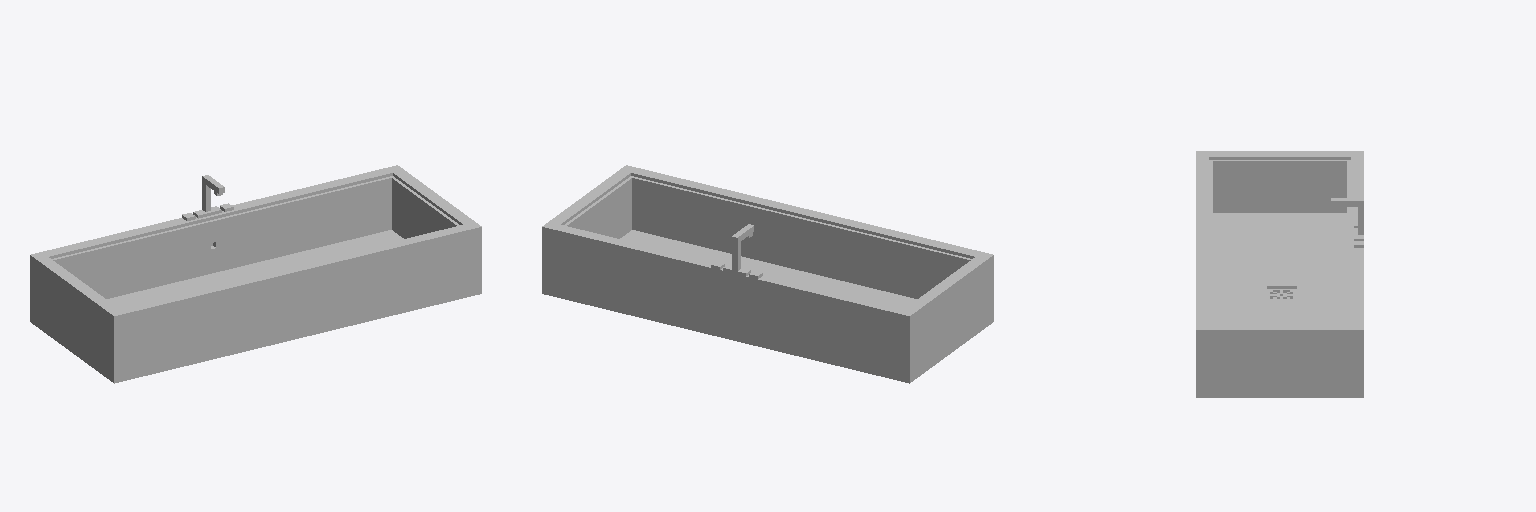
The model's file is Bath.obj.
The picture shows the model from 3 angles: view 1: azimuth 30°, elevation 25°; view 2: azimuth 150°, elevation 25°; view 3: azimuth 270°, elevation 25°; orthographic projection.
Parts seen in each view (by area): view 1: Bath; view 2: Bath; view 3: Bath.
Boxes of the visible parts, <box> form: Bath: <box>30,165,481,383</box>; Bath: <box>542,165,993,383</box>; Bath: <box>1196,151,1363,397</box>.
Bounding box in the file's own units: 126 × 34 × 50.